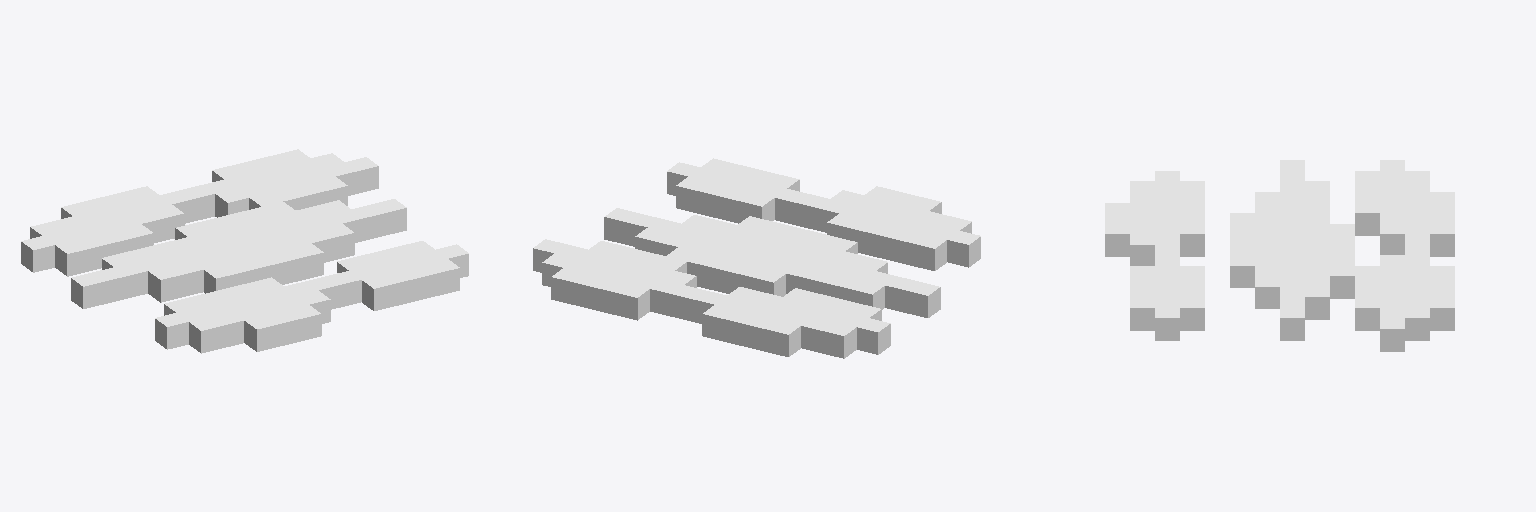
Rendered from cave-2.obj.
3 renders of one model, left to right at view 1: azimuth 30°, elevation 25°; view 2: azimuth 150°, elevation 25°; view 3: azimuth 270°, elevation 25°, orthographic.
Parts seen in each view (by area): view 1: object 1; view 2: object 1; view 3: object 1.
Part boxes in pixels (x1,y1,x2,y2): object 1: (21,149,468,353); object 1: (533,158,980,358); object 1: (1105,160,1454,351).
Bounding box in the file's own units: 1.6 × 0.1 × 1.4.